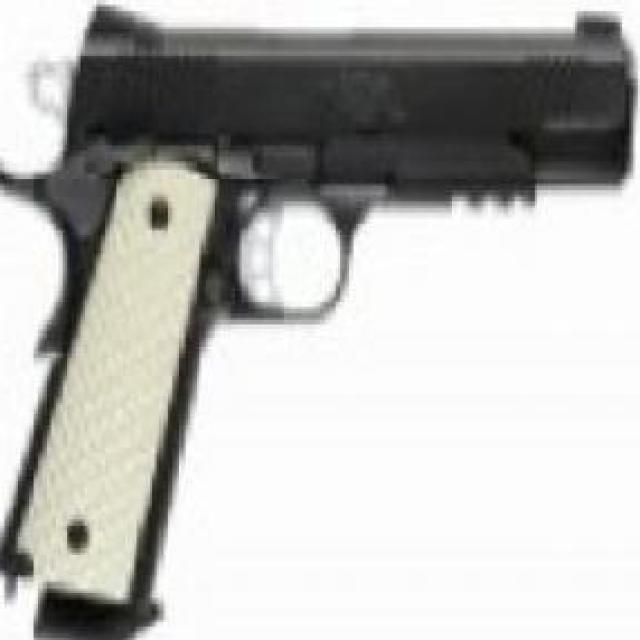pistol: (1, 6, 627, 640)
